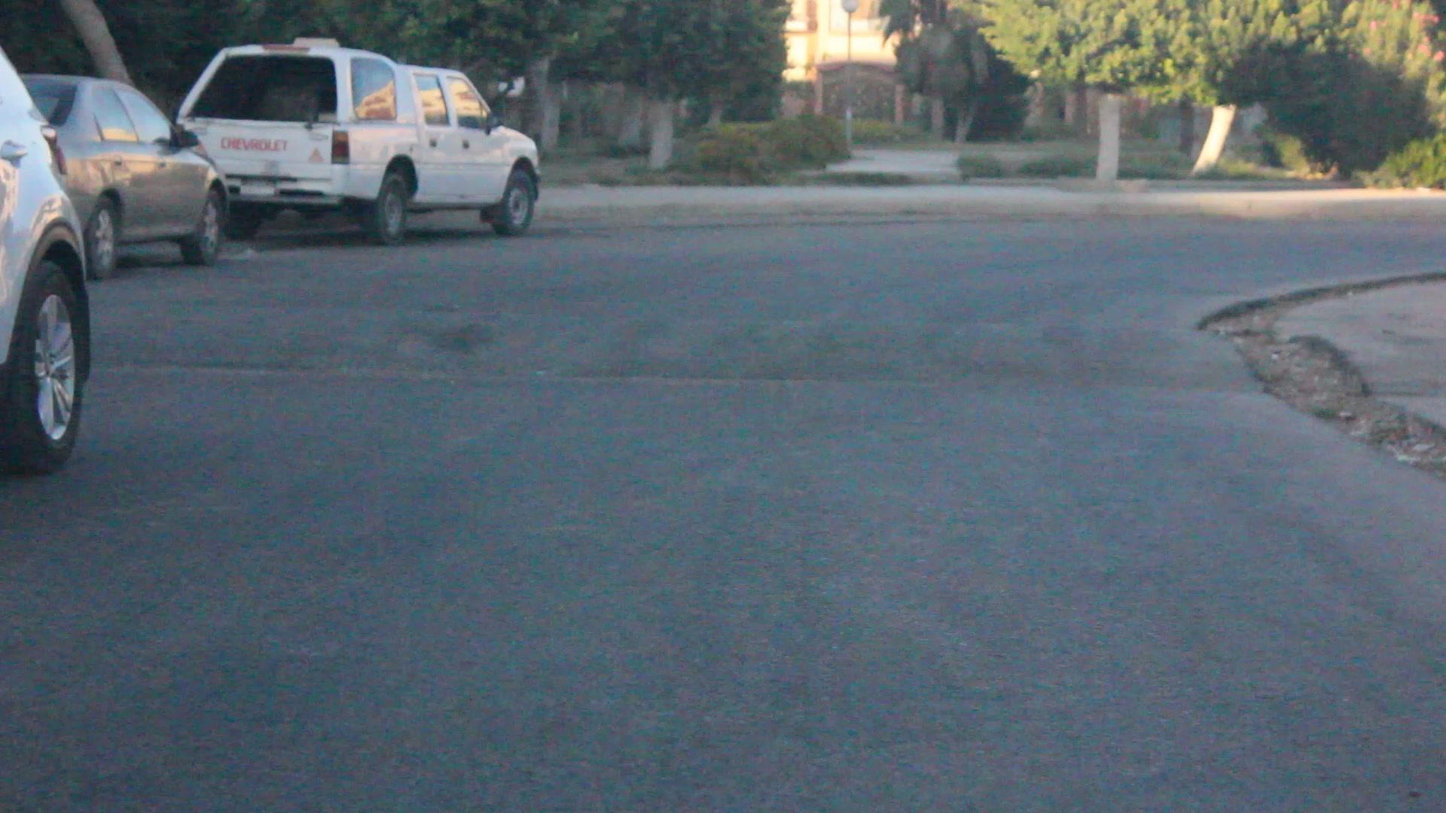Bump: (88, 295, 1237, 395)
